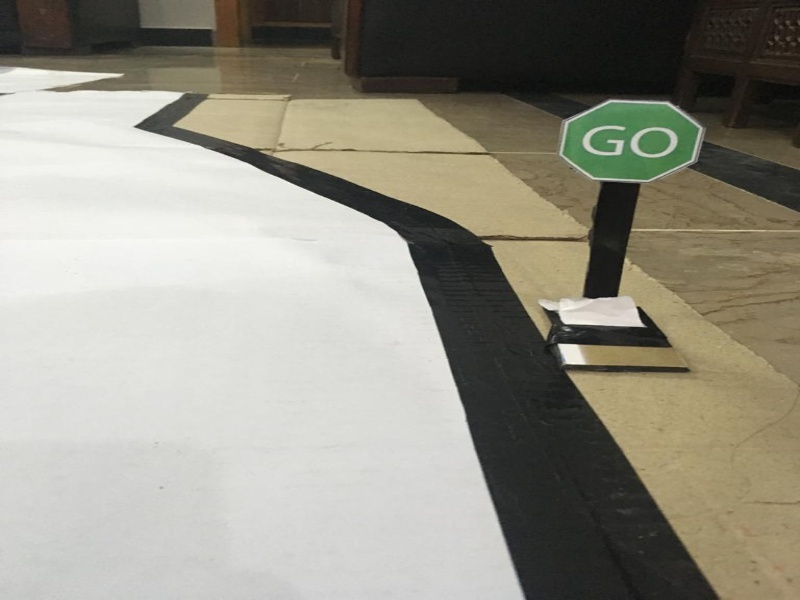Go: (555, 93, 702, 183)
